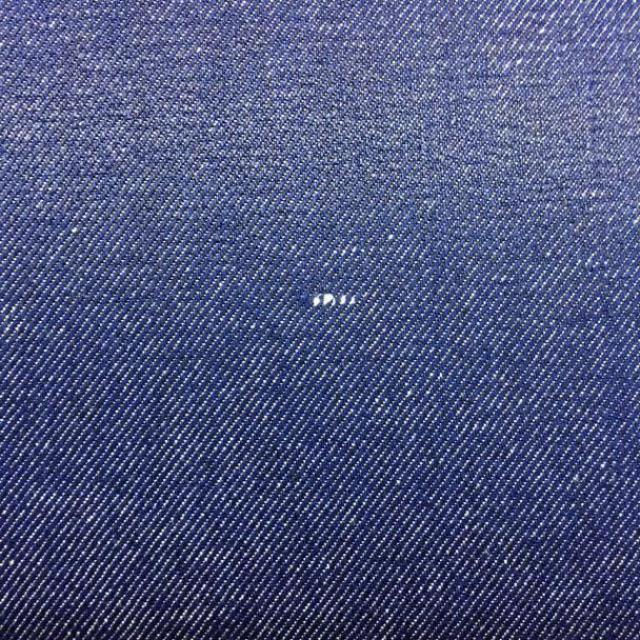Knot: (311, 293, 357, 307)
